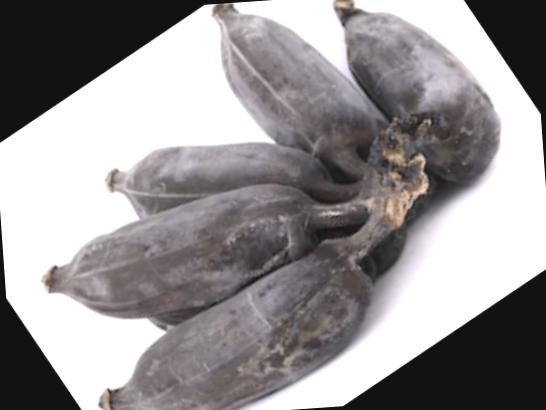Banana Overripe: (3, 0, 529, 410)
